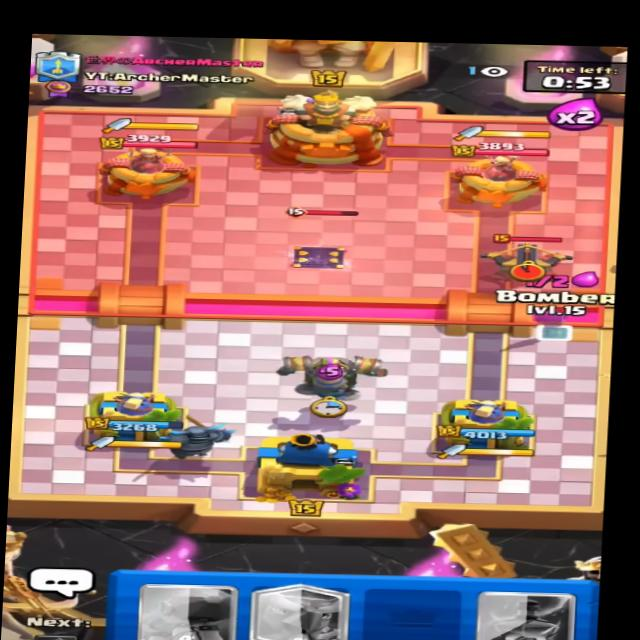Evoteslahidden: (269, 204, 367, 272)
Xbow: (471, 229, 580, 288)
